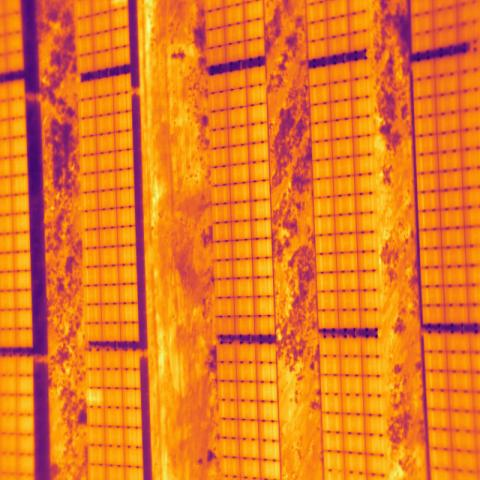fault: (88, 390, 92, 404), (96, 391, 100, 405), (93, 396, 96, 401)
